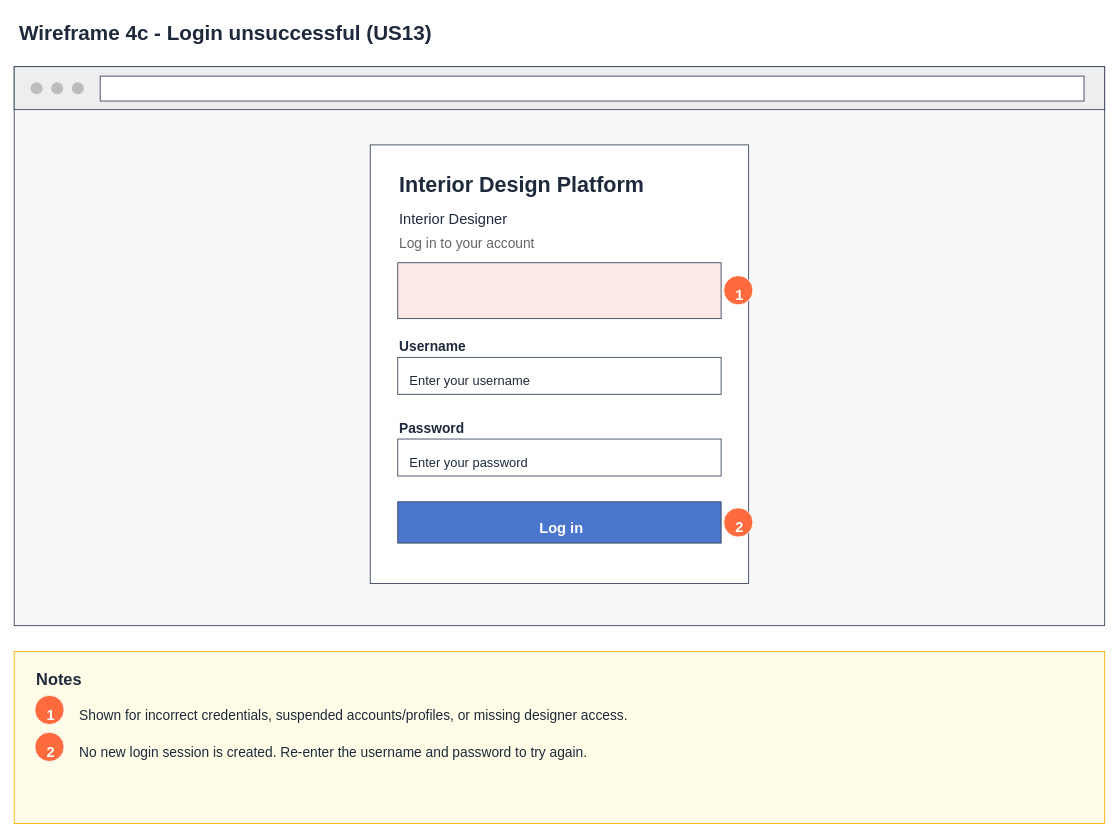
This 1119x838 diagram has some shape labels left out. Each missing label, with the centre of its shape:
Invalid login details or access unavailable: (x=559, y=290)
localhost:5000/designer/login: (x=591, y=88)
